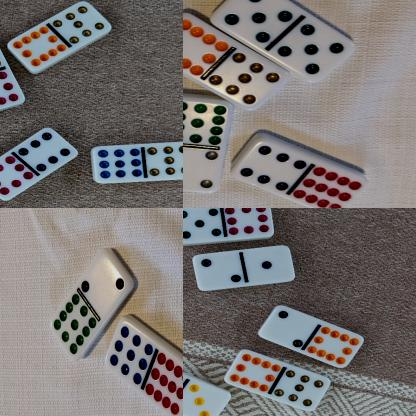pip-1: (245, 247, 297, 282)
pip-10: (183, 12, 227, 76), (8, 27, 67, 74), (225, 348, 283, 392), (307, 326, 364, 368)
pip-11: (51, 294, 97, 360), (183, 100, 228, 148)
pip-12: (293, 168, 367, 208), (145, 354, 183, 416)
pip-2: (82, 252, 128, 312), (258, 305, 317, 349), (193, 251, 244, 292)
pip-3: (183, 384, 231, 416)
pip-4: (183, 148, 219, 193)
pip-5: (278, 24, 355, 82), (216, 0, 293, 44), (183, 208, 224, 245)
pip-6: (233, 140, 306, 192), (19, 128, 78, 173)
pip-7: (209, 53, 289, 110), (54, 1, 112, 45), (274, 370, 330, 412), (144, 142, 183, 182)
pip-8: (224, 208, 275, 238), (0, 156, 34, 200), (0, 72, 25, 112)
pip-9: (104, 322, 154, 385), (93, 146, 145, 184)
